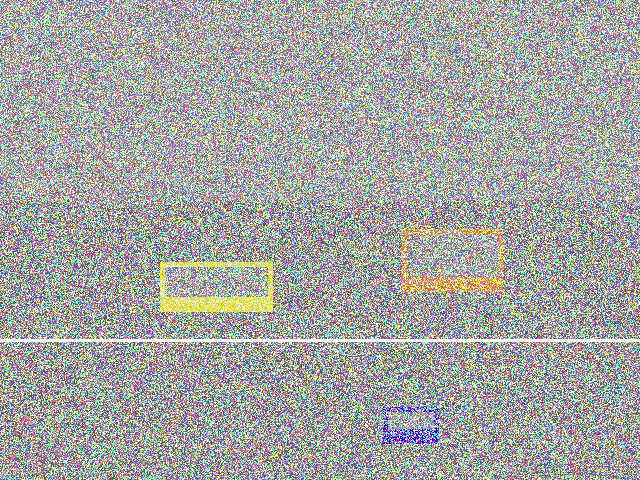motorcycle: (94, 259, 221, 358)
truck: (109, 357, 214, 463), (395, 150, 527, 217)
